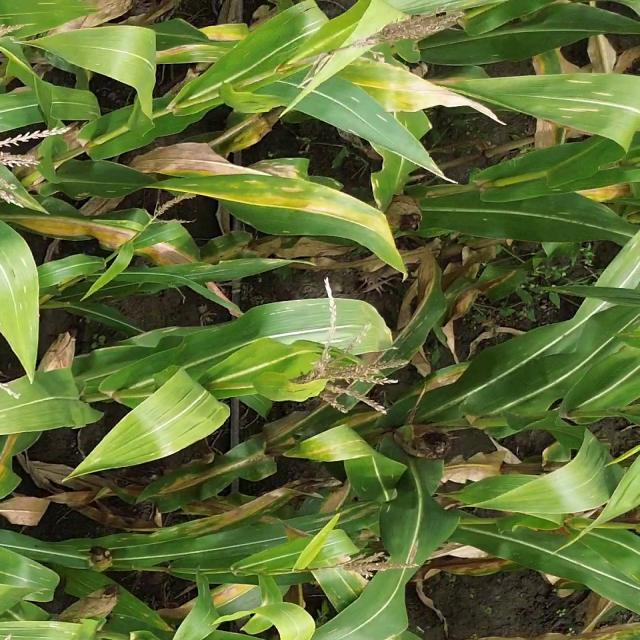gray-leaf-spot: (5, 512, 206, 606), (513, 66, 640, 148)
northern-leaf-blight: (113, 168, 407, 253), (22, 208, 228, 304), (122, 451, 319, 532), (340, 54, 492, 136), (281, 426, 404, 520), (155, 9, 263, 102), (385, 351, 494, 405)
southern-leaf-blight: (70, 593, 194, 640)
